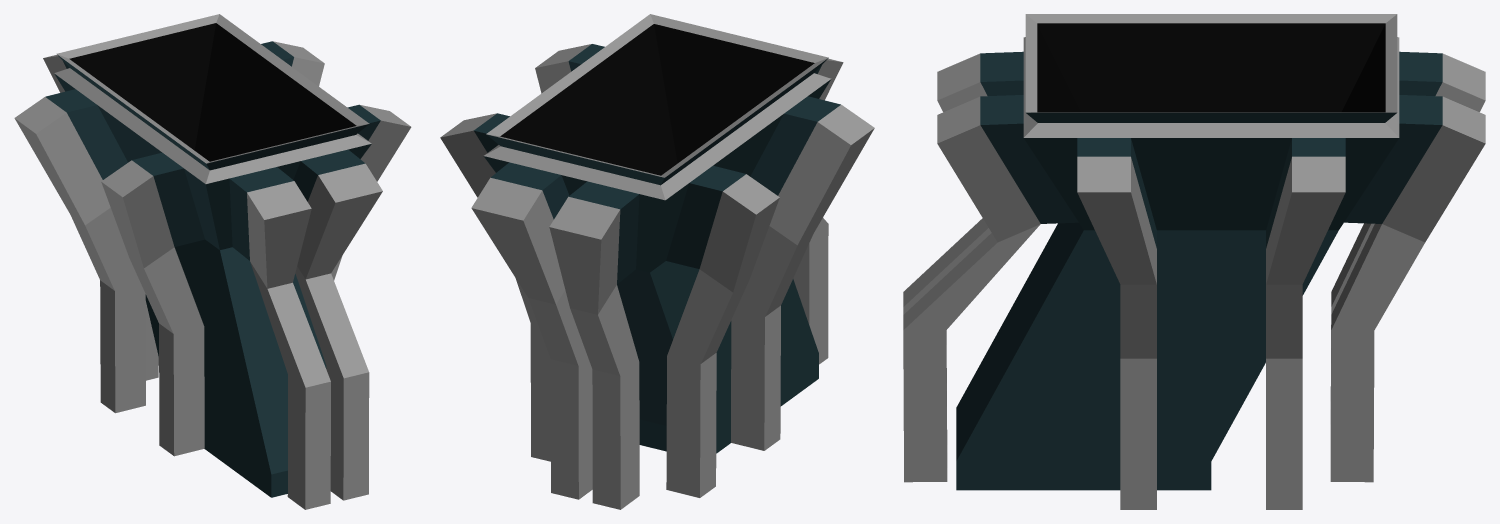
Rendered from mesh_chute.FBX.
3 renders of one model, left to right at view 1: azimuth 30°, elevation 25°; view 2: azimuth 150°, elevation 25°; view 3: azimuth 270°, elevation 25°, orthographic. The views are drawn at different scales.
Visible parts, largest first — view 1: Box001; view 2: Box001; view 3: Box001.
Boxes of the visible parts, bbox=[...] form: Box001: bbox=[14, 14, 411, 509]; Box001: bbox=[440, 14, 874, 509]; Box001: bbox=[903, 14, 1485, 509].
Bounding box in the file's own units: 64.79 × 69.21 × 91.36.
